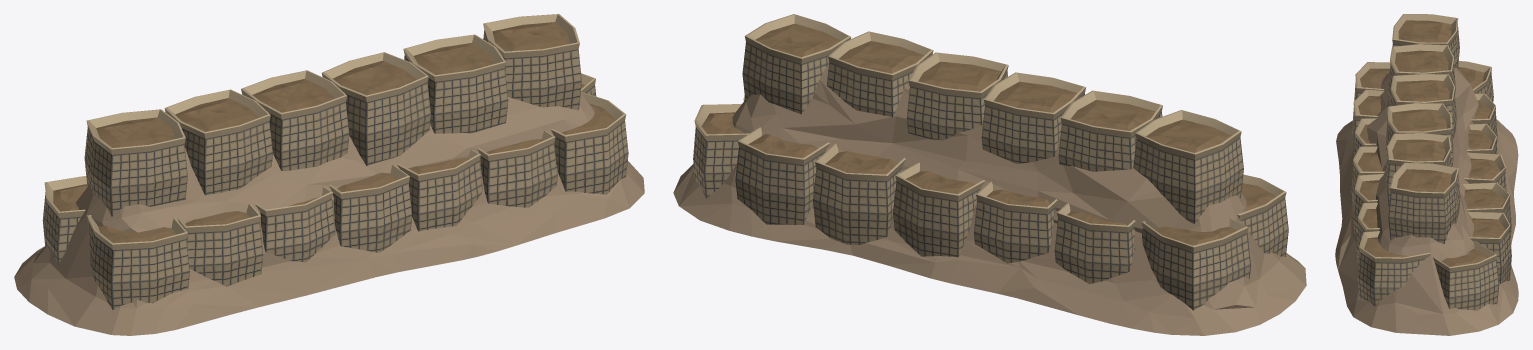
Rendered from SM_Prop_Barrier_Base_Group_03.glb.
3 views of the same model, side by side, from view 1: azimuth 30°, elevation 25°; view 2: azimuth 150°, elevation 25°; view 3: azimuth 270°, elevation 25° (orthographic). The views are drawn at different scales.
Parts seen in each view (by area): view 1: SM_Prop_Barrier_Base_Group_03; view 2: SM_Prop_Barrier_Base_Group_03; view 3: SM_Prop_Barrier_Base_Group_03.
Part boxes in pixels (x1,y1,x2,y2): SM_Prop_Barrier_Base_Group_03: (14, 14, 644, 335); SM_Prop_Barrier_Base_Group_03: (673, 14, 1306, 335); SM_Prop_Barrier_Base_Group_03: (1335, 14, 1518, 335).
Size of the model in its own units: 8.95 by 2.22 by 3.08.
1 material, 1 textured.
